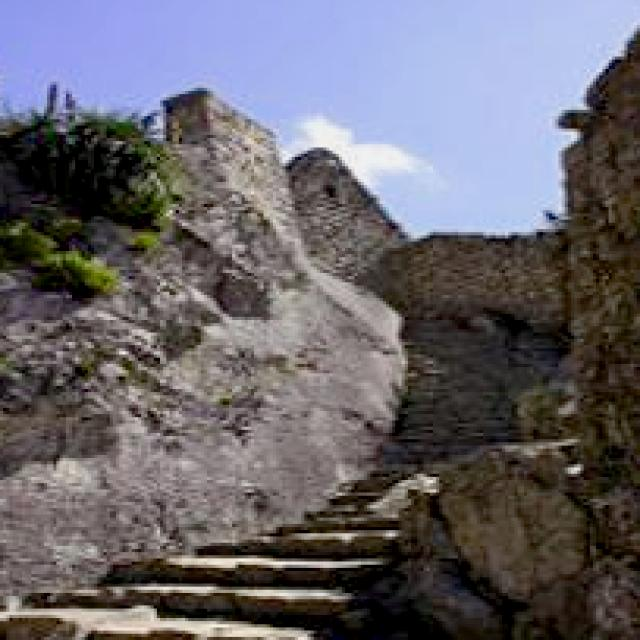upstair: (64, 437, 415, 640)
